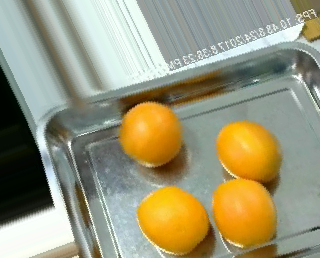Orange: (137, 185, 211, 254), (211, 177, 279, 247), (119, 101, 183, 167), (215, 120, 282, 180)
